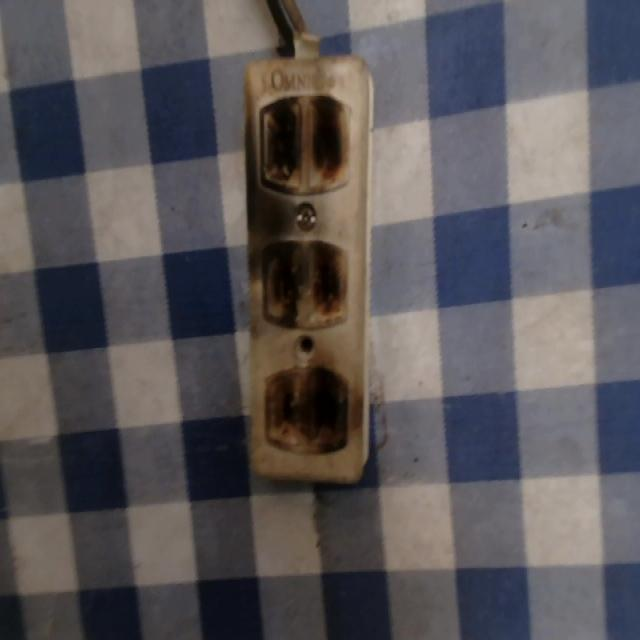-: (256, 92, 353, 197), (260, 237, 350, 328), (261, 363, 348, 456)
